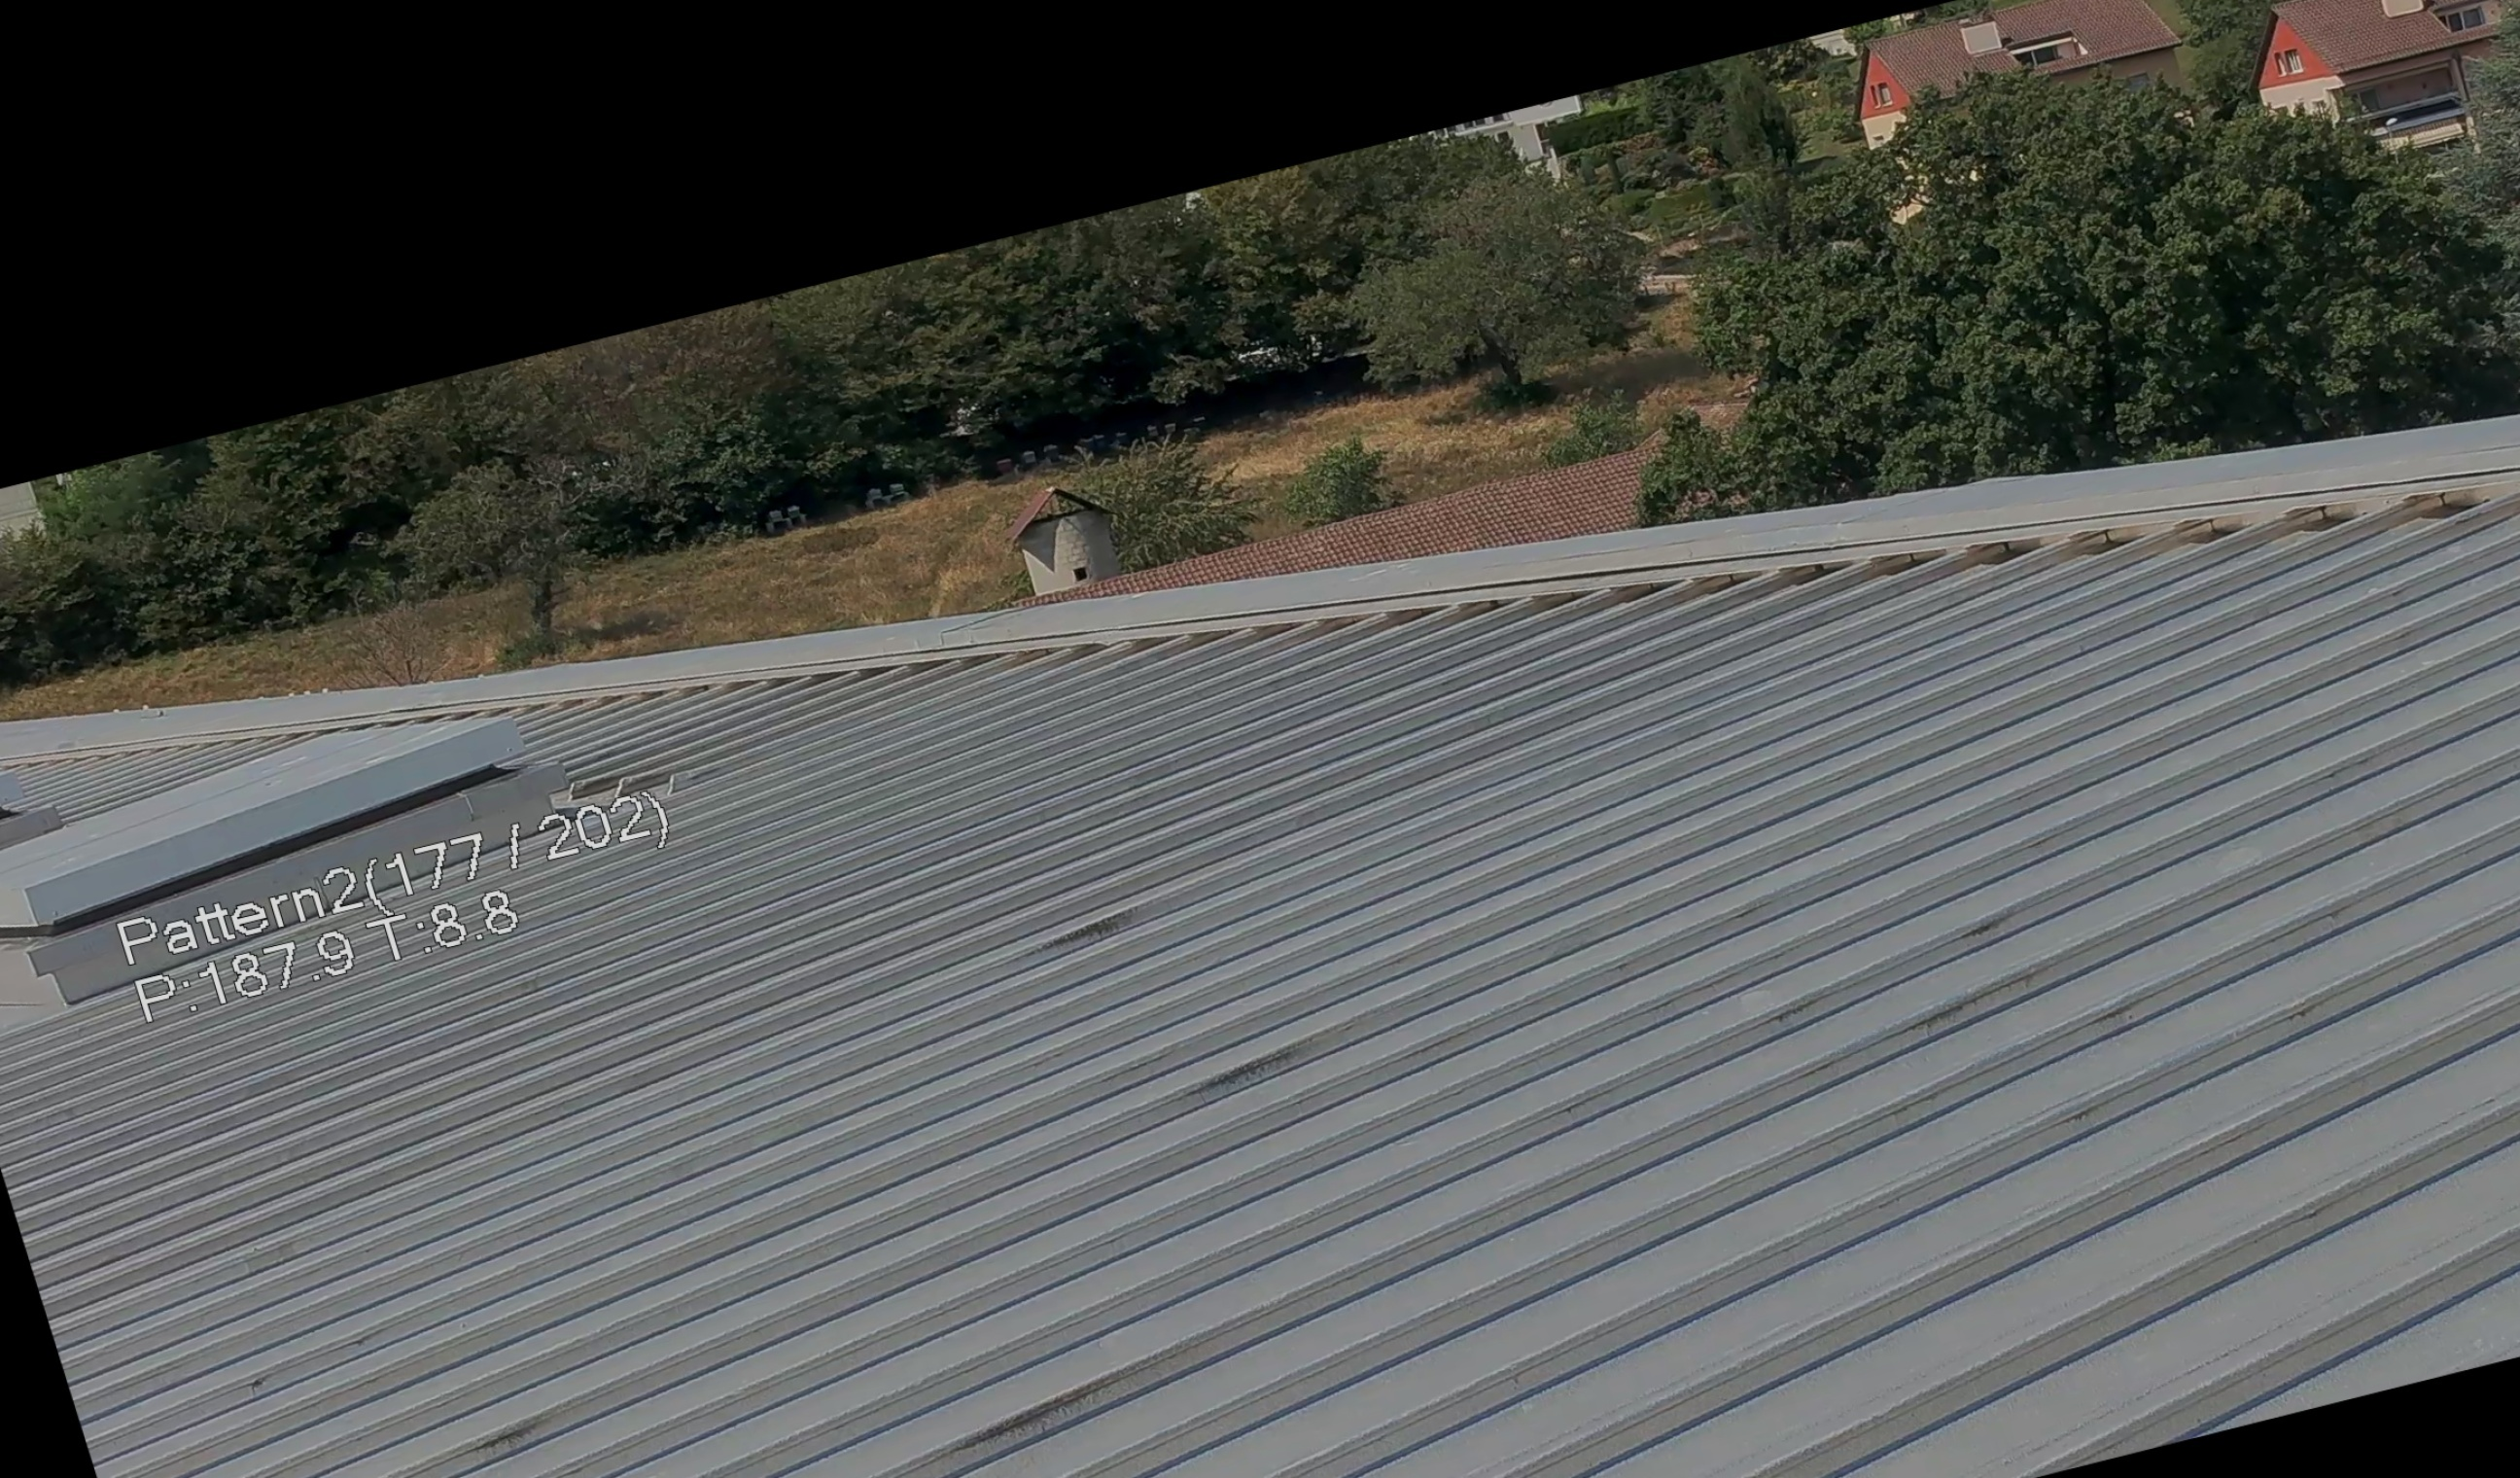Other: (983, 466, 1145, 612)
